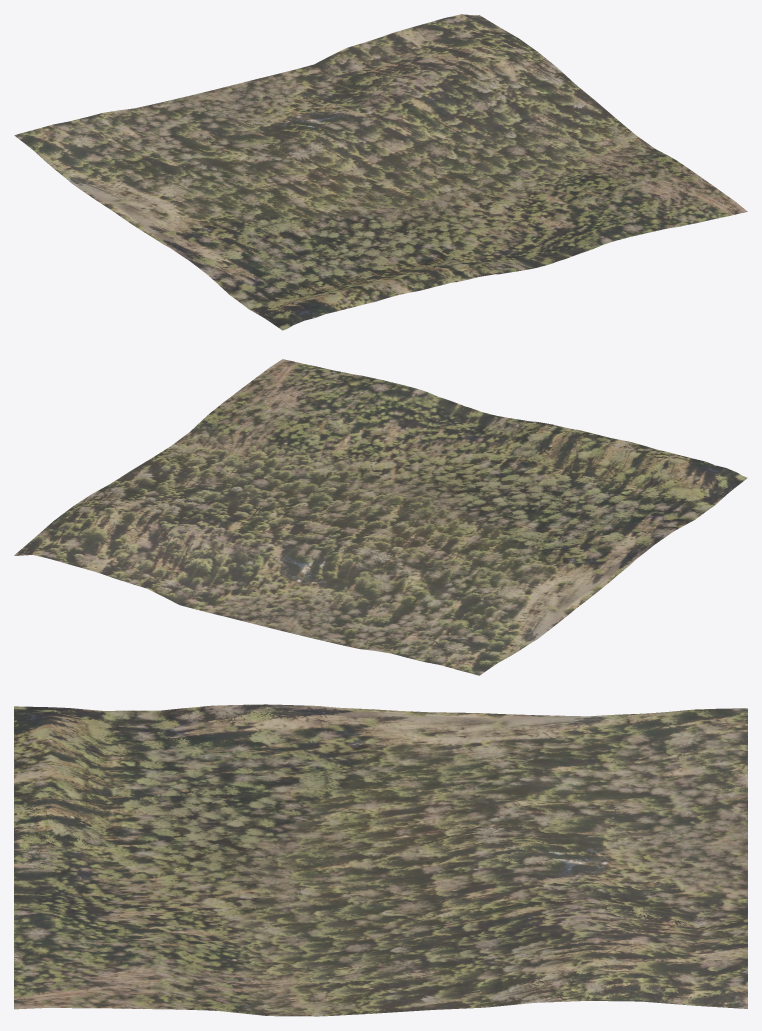
File: CM_Terrain_24492916_6814060.fbx
3 renders of one model, top to bottom at view 1: azimuth 30°, elevation 25°; view 2: azimuth 150°, elevation 25°; view 3: azimuth 270°, elevation 25°, orthographic. The views are drawn at different scales.
Visible parts, largest first — view 1: CM_Terrain_24492916_6814060_LOD0; view 2: CM_Terrain_24492916_6814060_LOD0; view 3: CM_Terrain_24492916_6814060_LOD0.
Boxes of the visible parts, <box> form: CM_Terrain_24492916_6814060_LOD0: <box>14,14,747,330</box>; CM_Terrain_24492916_6814060_LOD0: <box>14,359,747,675</box>; CM_Terrain_24492916_6814060_LOD0: <box>14,704,747,1016</box>.
Size of what is drawn, in the model's own units: 205 by 10.23 by 205.
